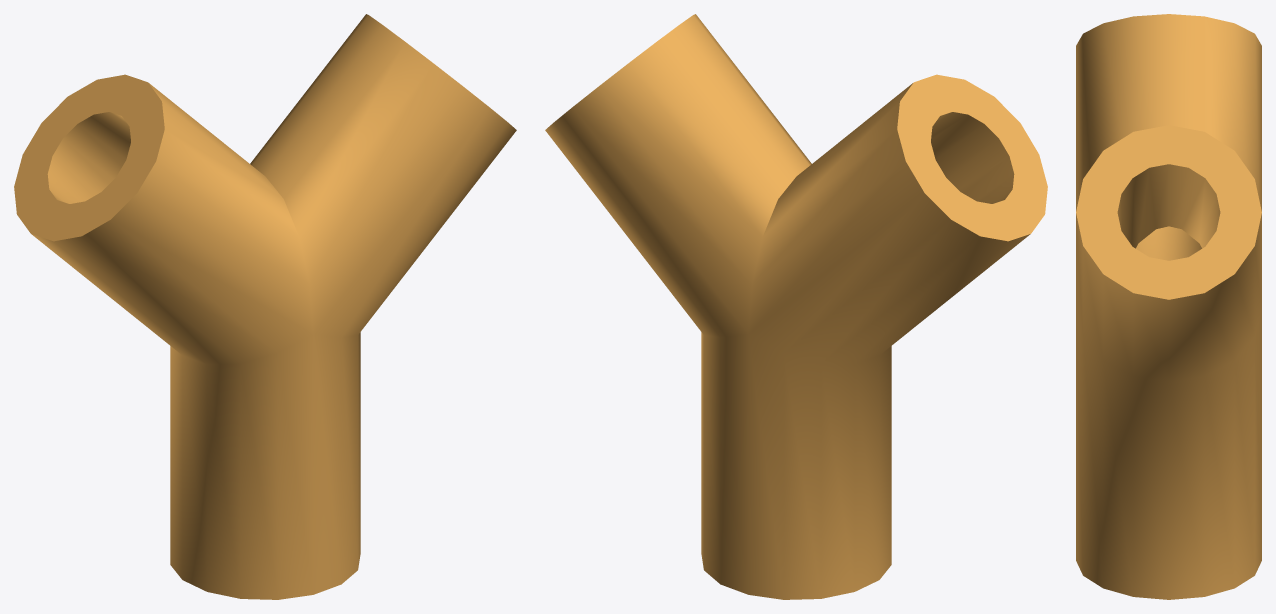
The model's file is Joint_Wye.fbx.
3 views of the same model, side by side, from view 1: azimuth 30°, elevation 25°; view 2: azimuth 150°, elevation 25°; view 3: azimuth 270°, elevation 25° (orthographic). The views are drawn at different scales.
Parts seen in each view (by area): view 1: Joint_Wye; view 2: Joint_Wye; view 3: Joint_Wye.
Boxes of the visible parts, x1,y1,x2,y2 form: Joint_Wye: (14, 14, 516, 599); Joint_Wye: (545, 14, 1047, 599); Joint_Wye: (1076, 14, 1261, 599).
Size of the model in its own units: 317 by 326 by 112.
